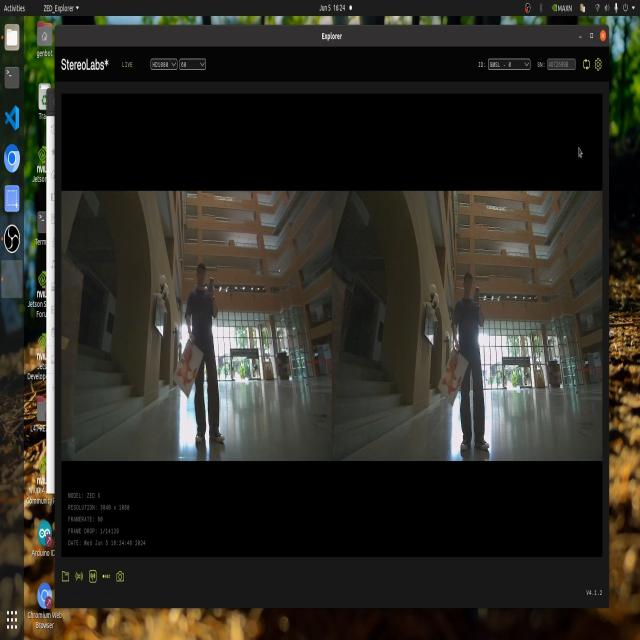red: (446, 352, 464, 407), (177, 345, 200, 382)
